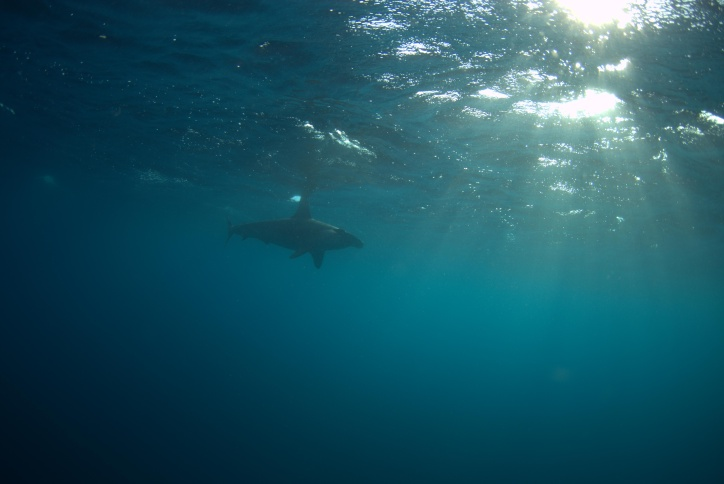Hammer: (202, 175, 380, 294)
